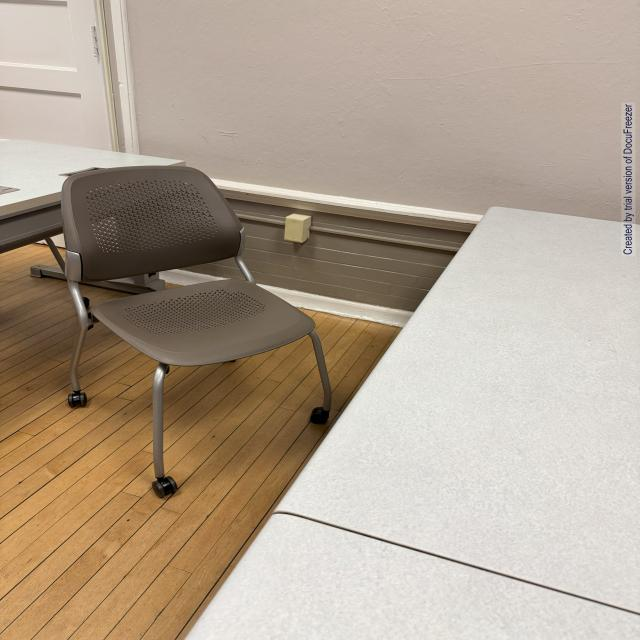chair: (36, 155, 345, 483)
